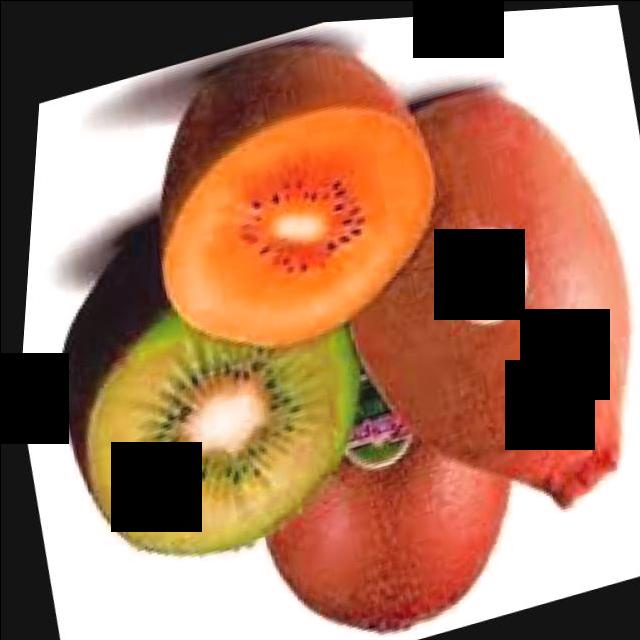kiwi: (275, 40, 640, 568), (193, 233, 563, 640)
